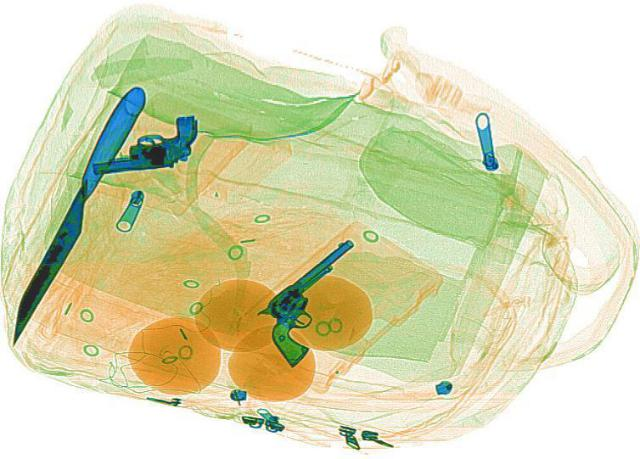Gun: (226, 238, 412, 365), (80, 112, 208, 173)
Knife: (0, 82, 151, 343)
